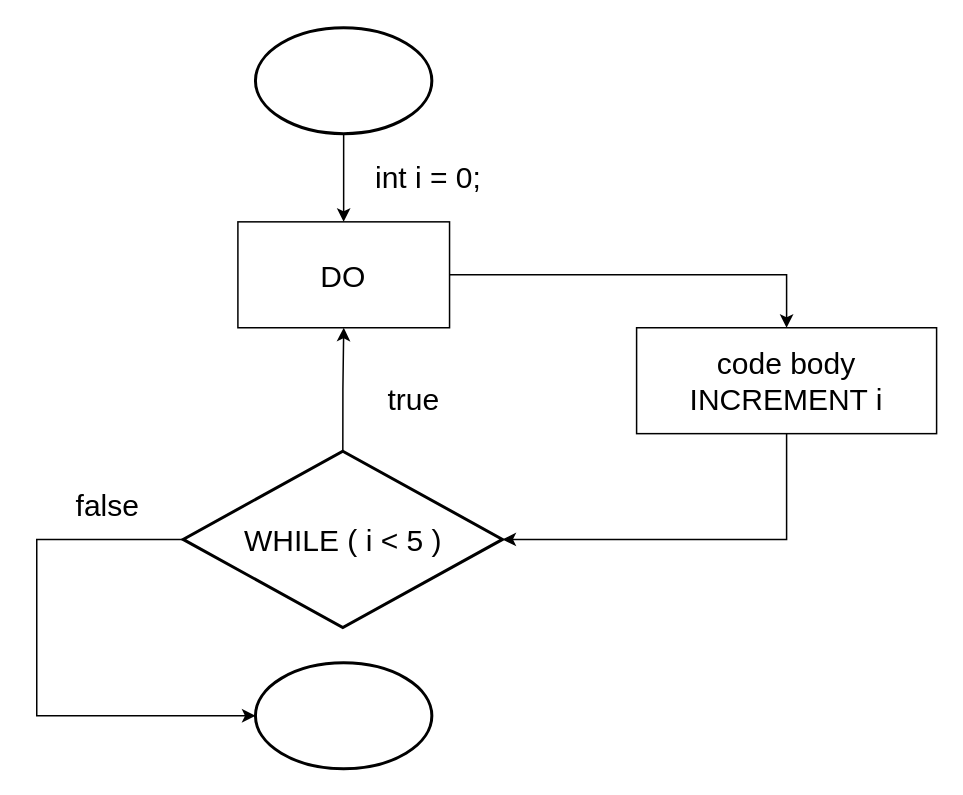
The diagram is 963 pixels wide and 795 high, and some of its shapes have lost their labels. The box of each missing label's shape, as (x1, y1, x2, y2) in pixels:
END: (253, 661, 433, 770)
START: (253, 26, 433, 134)
